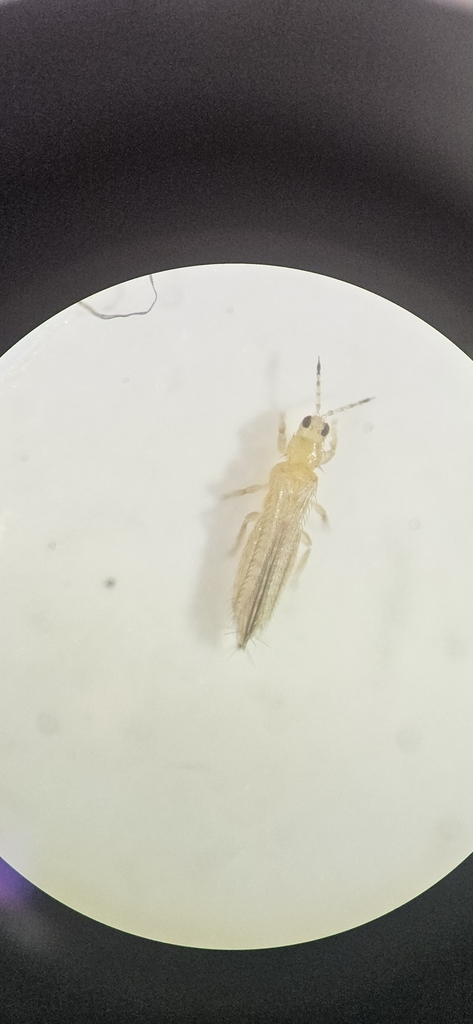tiny_pests: (163, 336, 395, 701)
